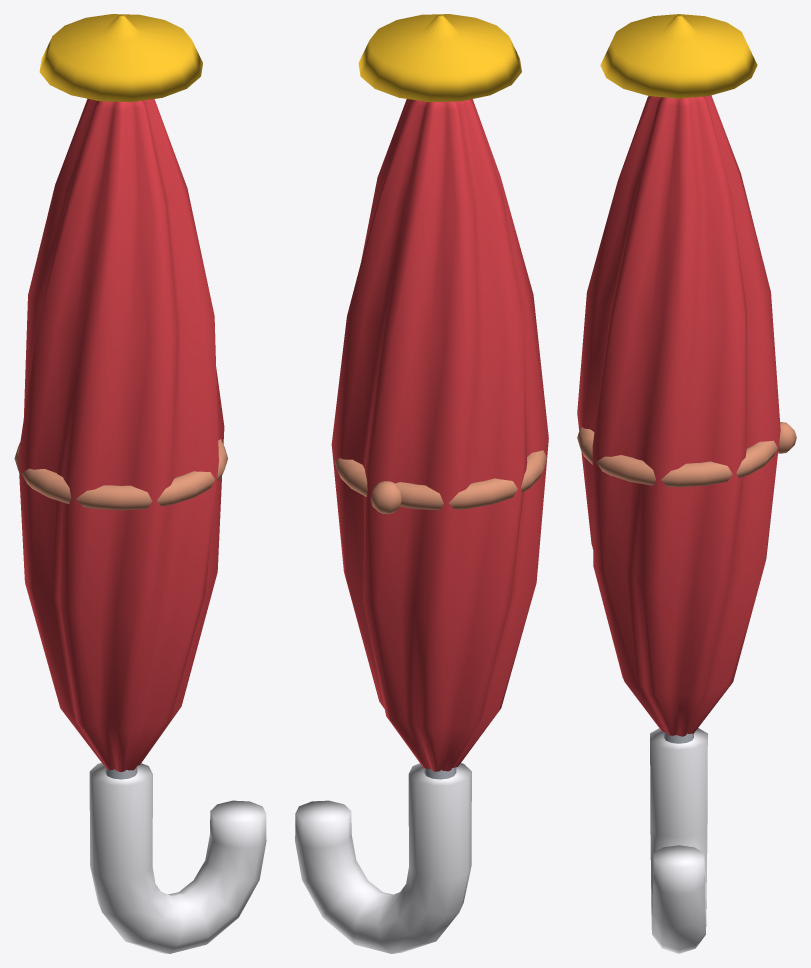
Rendered from ParasolPlummetUmbrellaShut.obj.
The picture shows the model from 3 angles, left to right: view 1: azimuth 30°, elevation 25°; view 2: azimuth 150°, elevation 25°; view 3: azimuth 270°, elevation 25°; orthographic projection. The views are drawn at different scales.
Visible parts, largest first — view 1: Canopy, Handle, Tip, Stripe; view 2: Canopy, Handle, Tip, Stripe; view 3: Canopy, Handle, Tip, Stripe.
Part boxes in pixels (x1,y1,x2,y2): Canopy: (18,98,224,772); Handle: (89,763,266,953); Tip: (39,14,202,102); Stripe: (14,439,227,510); Canopy: (331,99,548,771); Handle: (295,763,471,953); Tip: (358,14,521,102); Stripe: (334,450,546,514); Canopy: (577,95,780,736); Handle: (650,728,707,953); Tip: (600,14,757,98); Stripe: (577,422,796,487).
Size of the model in its own units: 1.44 by 5.57 by 1.23.
